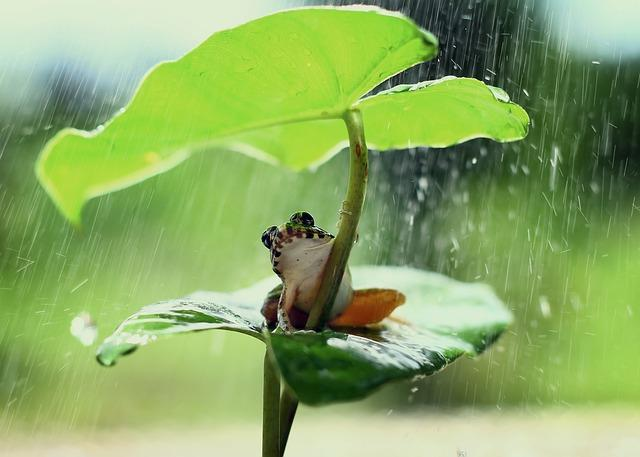Non_Gorille: (73, 46, 513, 445)
